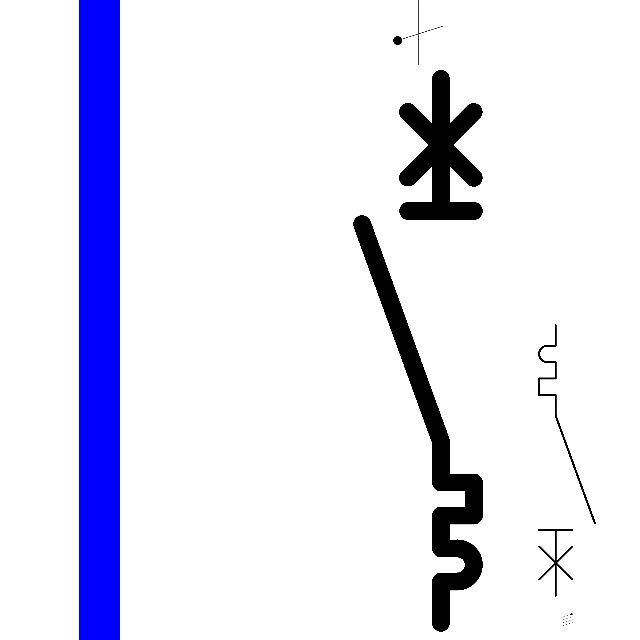interruptor_termomagnetico: (348, 64, 488, 637), (532, 318, 601, 603)
